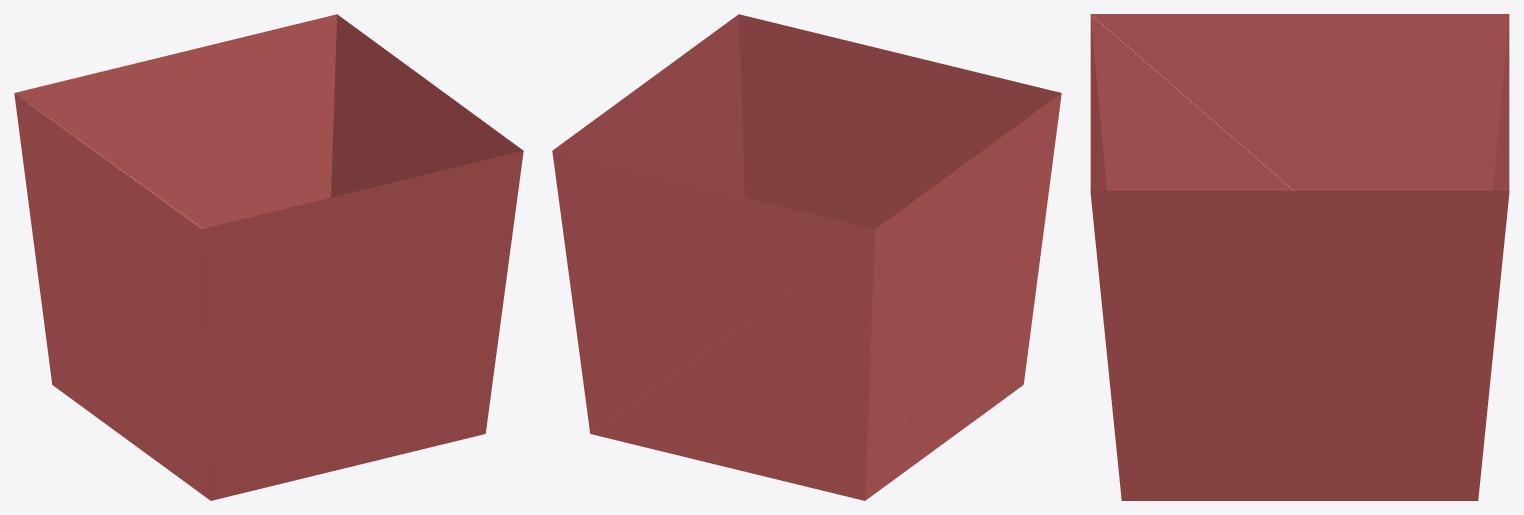
The model's file is koopa3_boss.glb.
3 views of the same model, side by side, from view 1: azimuth 30°, elevation 25°; view 2: azimuth 150°, elevation 25°; view 3: azimuth 270°, elevation 25° (orthographic). The views are drawn at different scales.
Parts seen in each view (by area): view 1: koopa3_boss_col; view 2: koopa3_boss_col; view 3: koopa3_boss_col.
Part boxes in pixels (bbox=[...]): koopa3_boss_col: bbox=[14, 14, 523, 500]; koopa3_boss_col: bbox=[552, 14, 1061, 500]; koopa3_boss_col: bbox=[1090, 14, 1509, 500].
Size of the model in its own units: 18.82 by 16.01 by 18.82.
